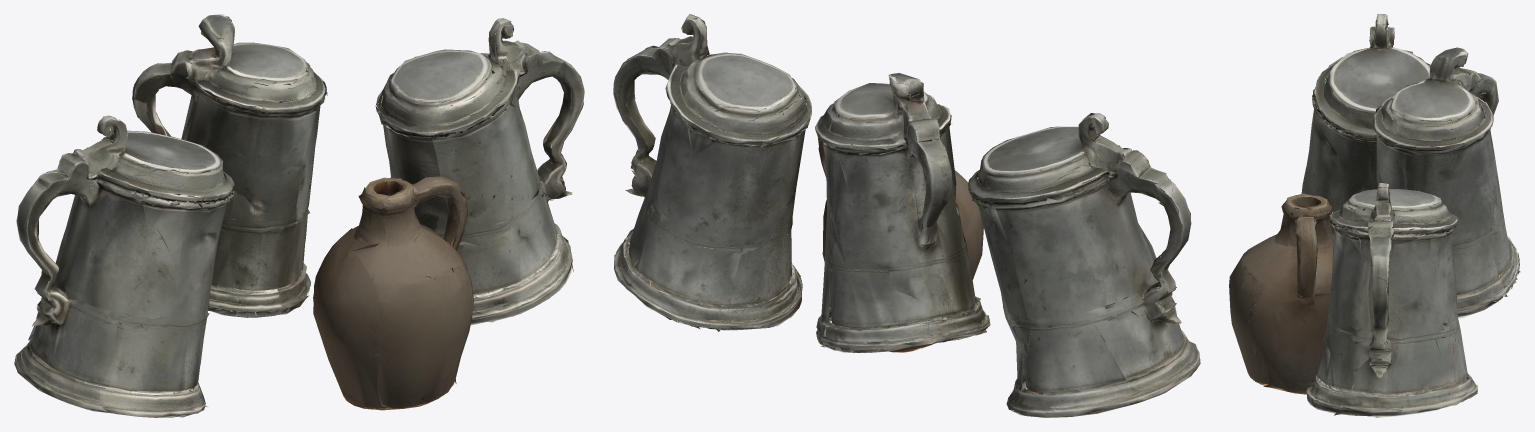
Rendered from tankard-cluster.glb.
The picture shows the model from 3 angles, left to right: view 1: azimuth 30°, elevation 25°; view 2: azimuth 150°, elevation 25°; view 3: azimuth 270°, elevation 25°; orthographic projection. The views are drawn at different scales.
Visible parts, largest first — view 1: Mesh_0; view 2: Mesh_0; view 3: Mesh_0.
Part boxes in pixels (left/top/right/bottom): Mesh_0: left=14, top=14, right=584, bottom=417; Mesh_0: left=613, top=14, right=1200, bottom=417; Mesh_0: left=1229, top=14, right=1520, bottom=417.
Bounding box in the file's own units: 1.9 × 1.09 × 0.9734.
1 material, 1 textured.
